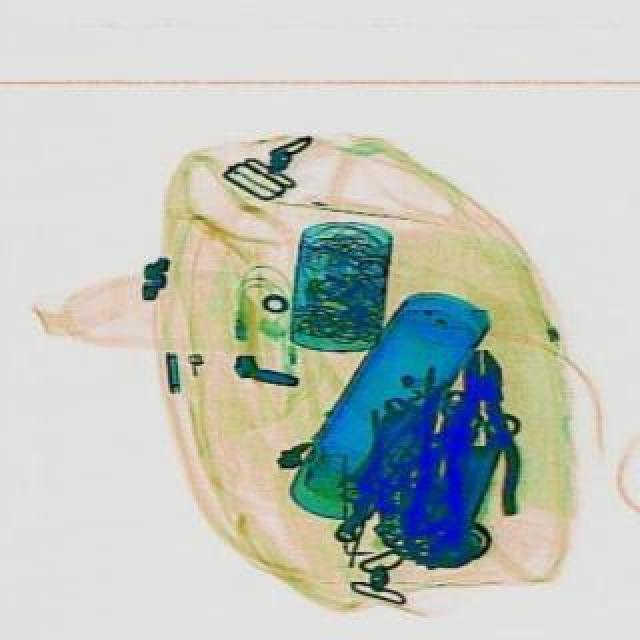wrench: (440, 348, 518, 524)
